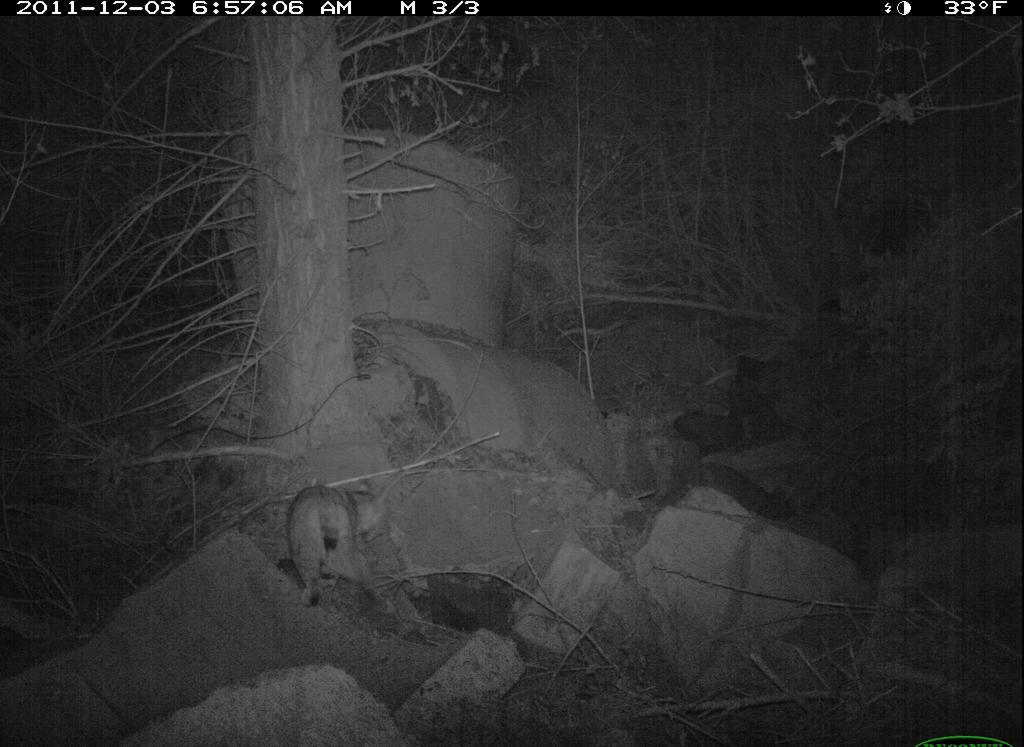bobcat: (286, 468, 418, 614)
